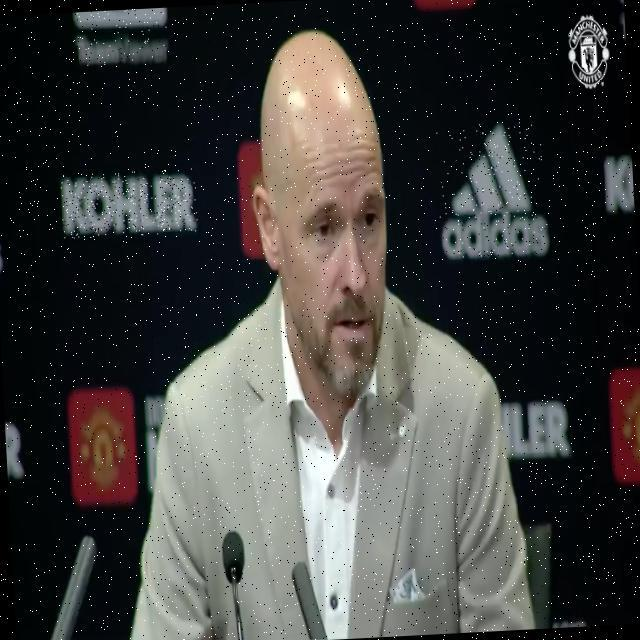Adidas: (435, 121, 549, 259)
Kohler: (60, 169, 198, 240)
TeamViewer: (74, 8, 170, 68)
